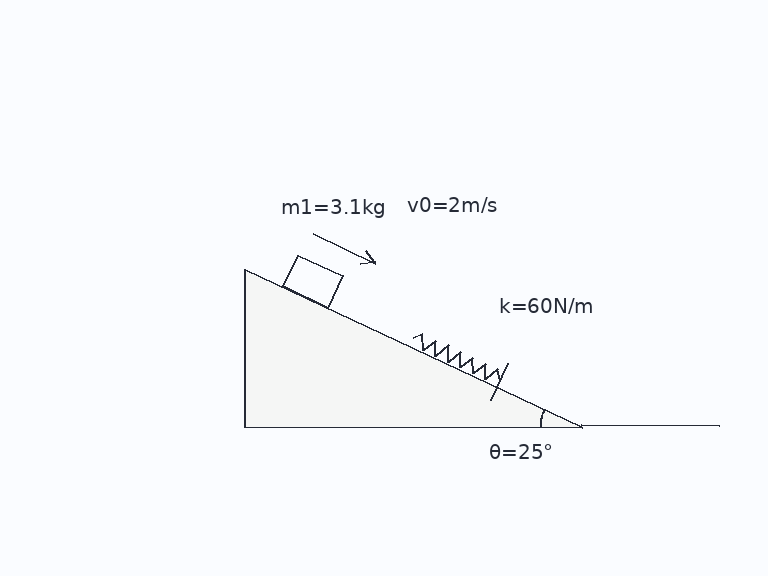block: (281, 253, 344, 310)
ramp: (243, 267, 583, 428)
spring: (411, 332, 503, 381)
